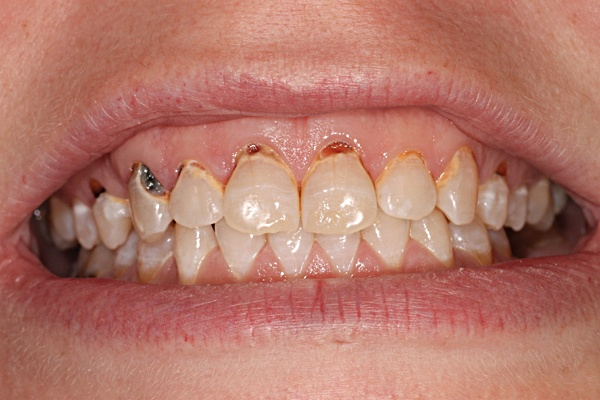karies: (141, 162, 166, 196), (319, 140, 354, 158), (176, 160, 205, 179), (88, 177, 108, 200), (398, 148, 428, 163), (243, 141, 262, 159), (492, 162, 509, 178)
